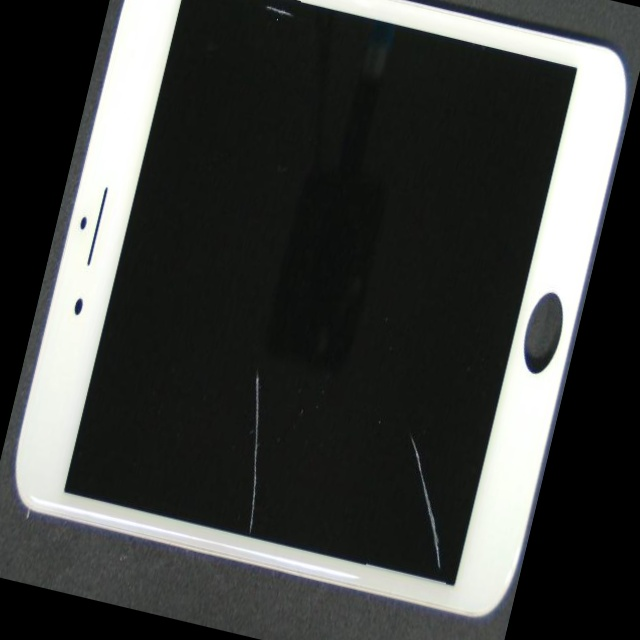scratch: (122, 113, 609, 640), (128, 251, 427, 640), (160, 0, 337, 89)
